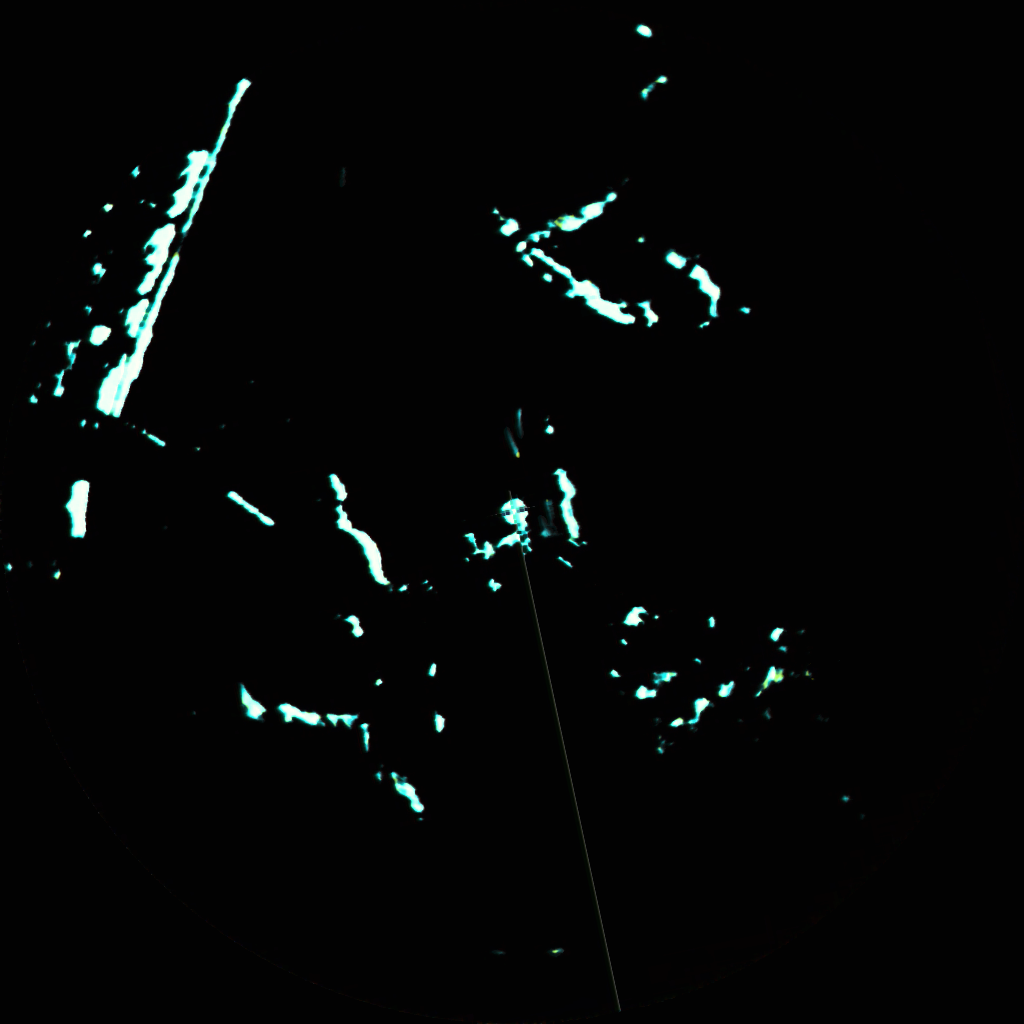B: (507, 434, 522, 460), (514, 406, 525, 430), (540, 525, 551, 542), (546, 498, 554, 520)
